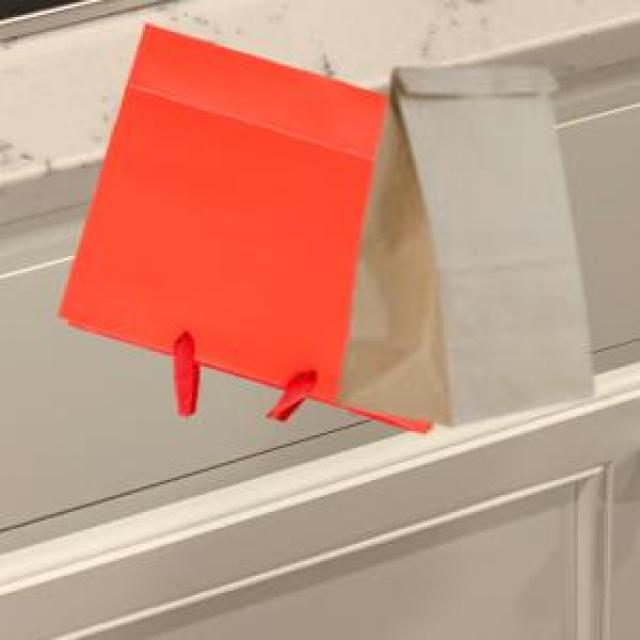Paper -Biodegradable-: (58, 22, 389, 403), (391, 66, 594, 421)
